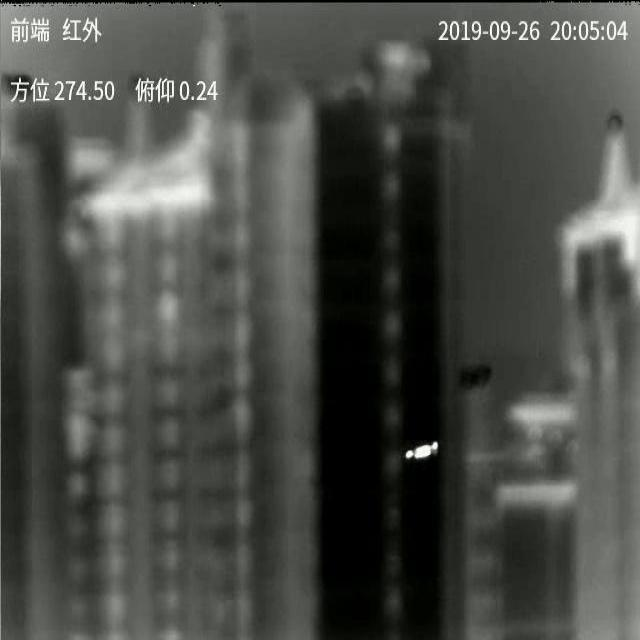drone: (405, 442, 439, 459)
